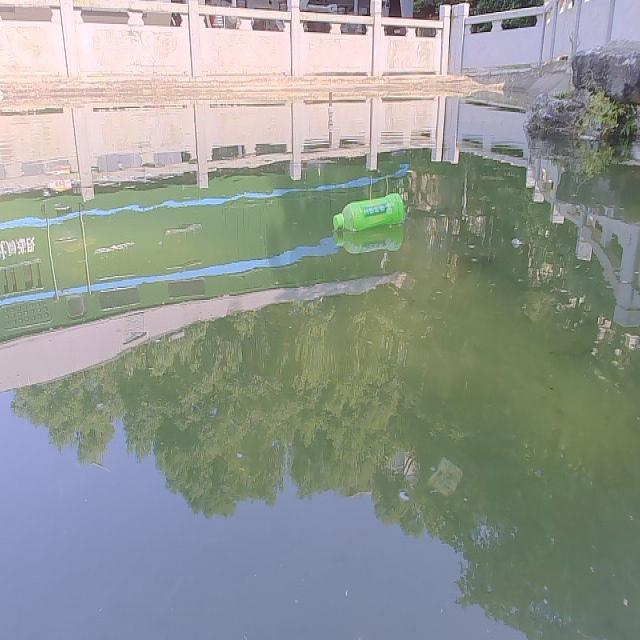bottle: (329, 190, 407, 234)
